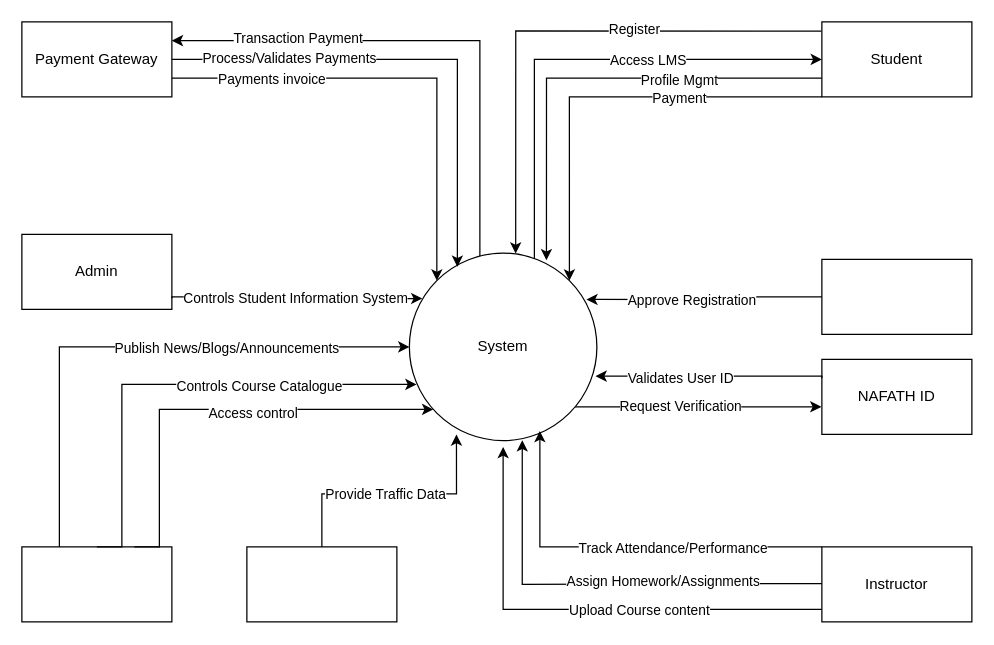
Some shapes in this 994 by 645 pixel diagram are drawn without their labels. Each missing label, with the centre of its shape:
"Content managment" belongs at (x=96, y=584).
"Google Analytics" belongs at (x=321, y=584).
"Parent" belongs at (x=896, y=296).
